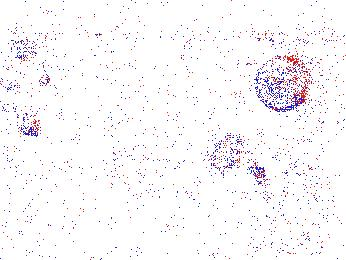flame jellyfish: (1, 51, 53, 135), (199, 127, 269, 186), (253, 55, 314, 112)
